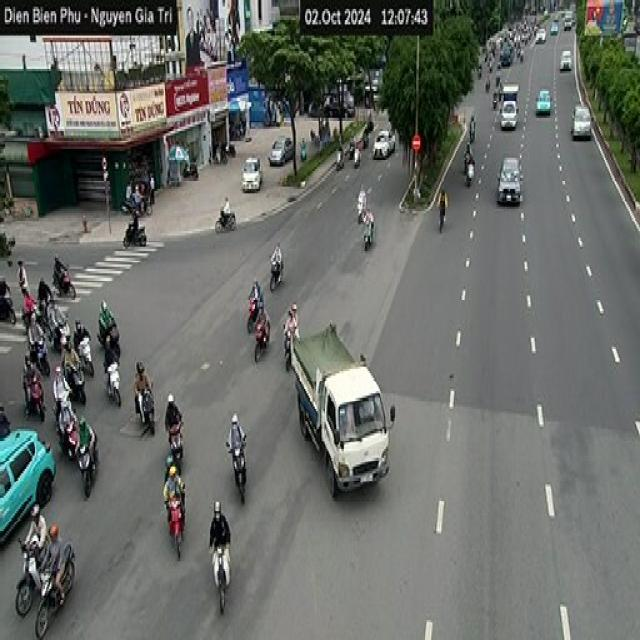car: (0, 426, 56, 546), (497, 156, 522, 204), (268, 136, 294, 164), (242, 156, 262, 191), (371, 129, 395, 158), (571, 104, 591, 138), (500, 98, 518, 129), (536, 89, 550, 113), (558, 49, 572, 69)
motorcycle: (76, 429, 99, 498), (210, 538, 231, 613), (165, 487, 185, 558), (226, 436, 246, 504), (52, 253, 76, 298), (136, 384, 155, 436), (102, 358, 121, 407), (254, 311, 270, 362), (168, 418, 184, 460), (283, 322, 295, 371), (246, 294, 260, 334), (268, 253, 282, 291), (214, 209, 236, 233), (361, 218, 374, 251)
person: (40, 522, 64, 604), (209, 500, 231, 587), (163, 464, 185, 529), (225, 411, 246, 471), (248, 278, 264, 322), (437, 189, 448, 231), (356, 182, 366, 222), (220, 196, 230, 224)
truck: (288, 318, 397, 498)
